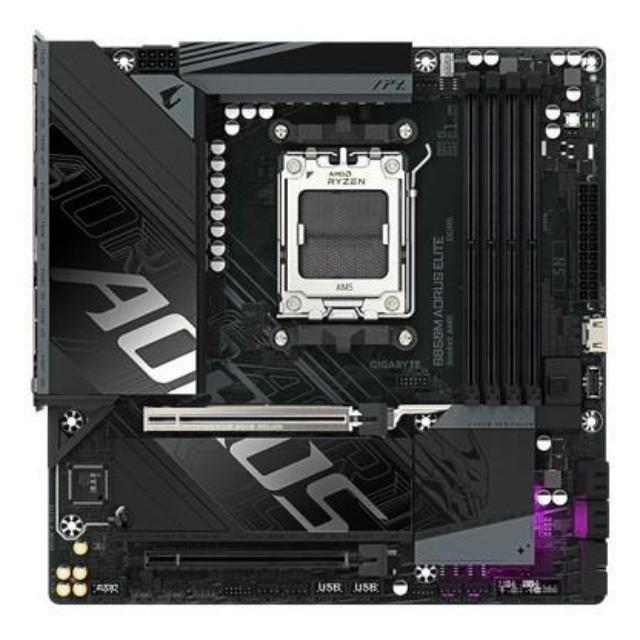Mainboard: (36, 37, 614, 611)
